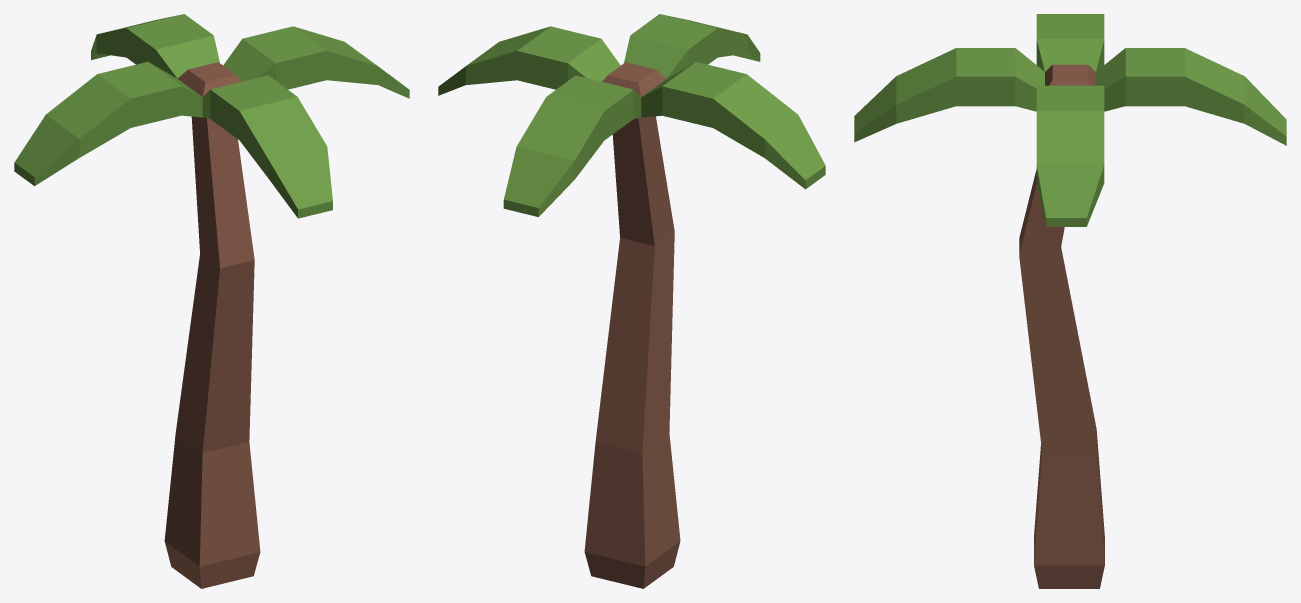
The model's file is tree_palmTall.fbx.
3 renders of one model, left to right at view 1: azimuth 30°, elevation 25°; view 2: azimuth 150°, elevation 25°; view 3: azimuth 270°, elevation 25°, orthographic.
Parts seen in each view (by area): view 1: tree_palmTall; view 2: tree_palmTall; view 3: tree_palmTall.
Boxes of the visible parts, bbox=[...] form: tree_palmTall: bbox=[14, 14, 409, 588]; tree_palmTall: bbox=[438, 14, 825, 588]; tree_palmTall: bbox=[854, 14, 1286, 588].
Size of the model in its own units: 2.99 by 3.92 by 2.99.
